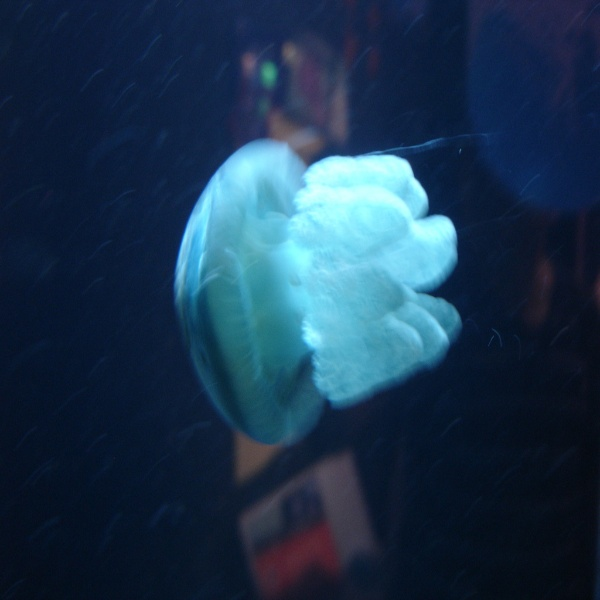Jellyfish: (179, 124, 465, 451)
